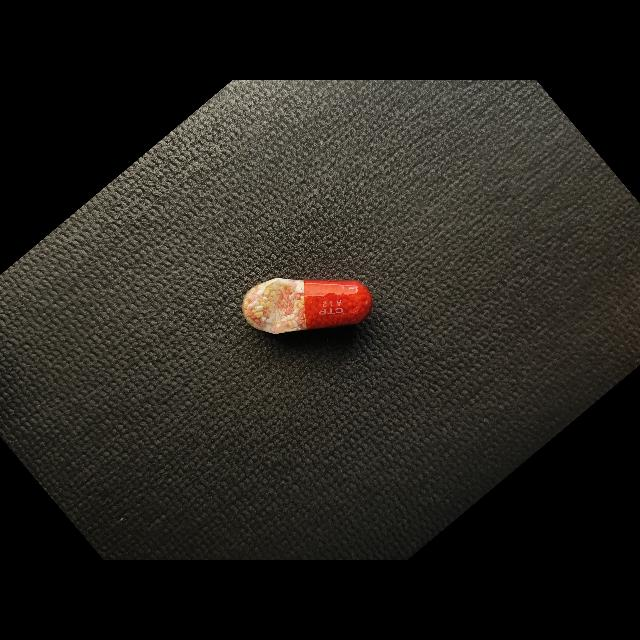Defective Capsule: (242, 278, 372, 334)
